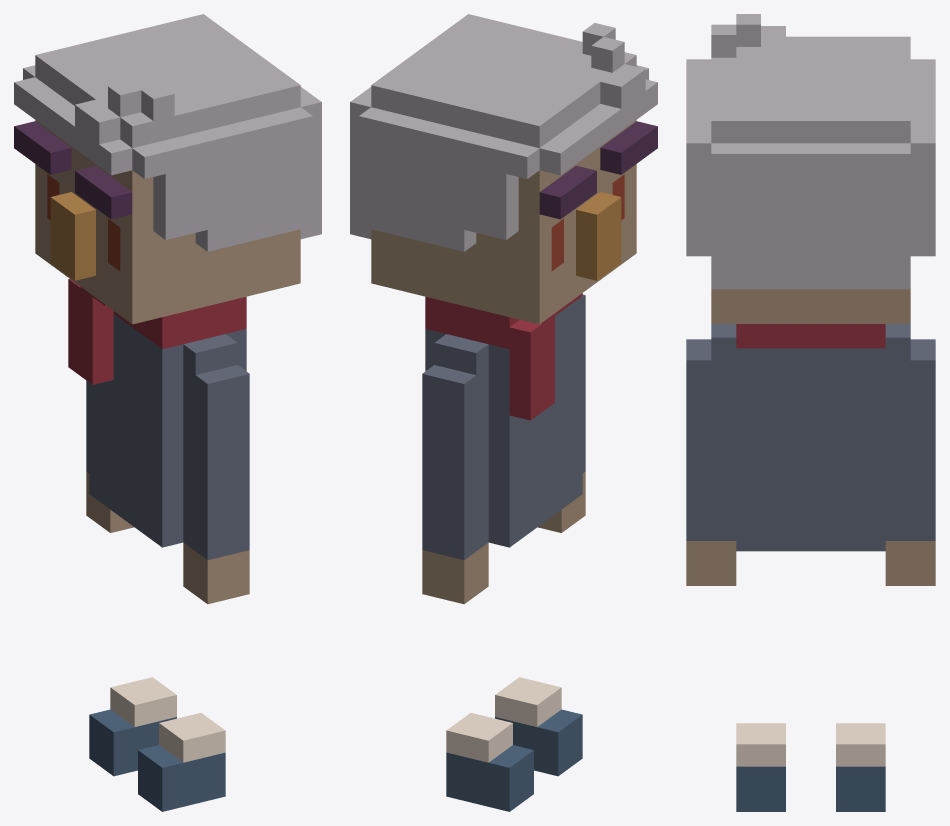
File: Char_vengi.gltf
The picture shows the model from 3 angles, left to right: view 1: azimuth 30°, elevation 25°; view 2: azimuth 150°, elevation 25°; view 3: azimuth 270°, elevation 25°; orthographic projection. The views are drawn at different scales.
Visible parts, largest first — view 1: Layer.2; view 2: Layer.2; view 3: Layer.2.
Boxes of the visible parts, box(x1,y1,x2,y2) form: Layer.2: box(14, 14, 321, 811); Layer.2: box(350, 14, 657, 811); Layer.2: box(686, 14, 935, 811).
Bounding box in the file's own units: 10 × 33 × 10.
1 material, 1 textured.
